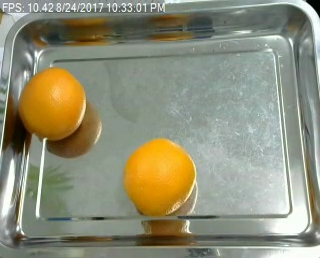Orange: (123, 137, 194, 216), (18, 68, 86, 141)
